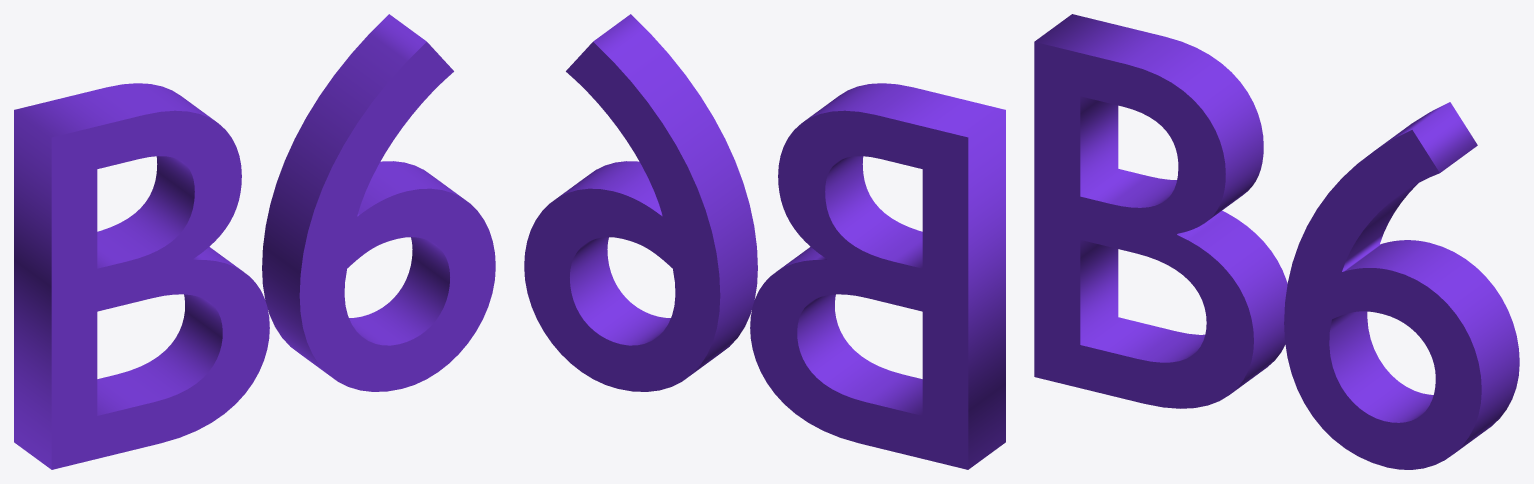
The picture shows the model from 3 angles, left to right: view 1: azimuth 30°, elevation 25°; view 2: azimuth 150°, elevation 25°; view 3: azimuth 330°, elevation 25°; orthographic projection.
Visible parts, largest first — view 1: 텍스트; view 2: 텍스트; view 3: 텍스트.
Part boxes in pixels (box(x1,y1,x2,y2)): 텍스트: box(14, 14, 495, 469); 텍스트: box(524, 14, 1005, 469); 텍스트: box(1034, 14, 1519, 469).
Bounding box in the file's own units: 95.3 × 70 × 14.
